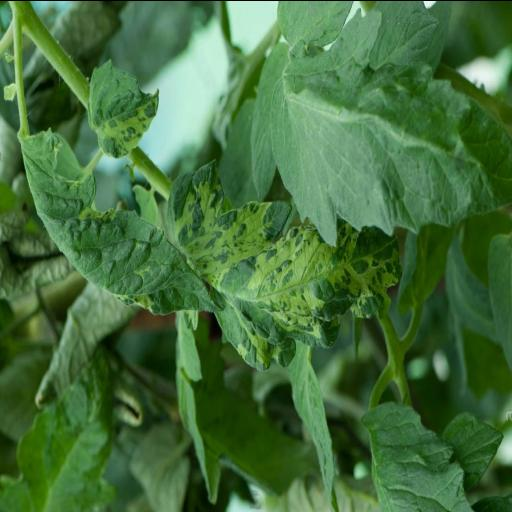disease_tomato: (168, 157, 406, 373), (86, 55, 160, 160)
